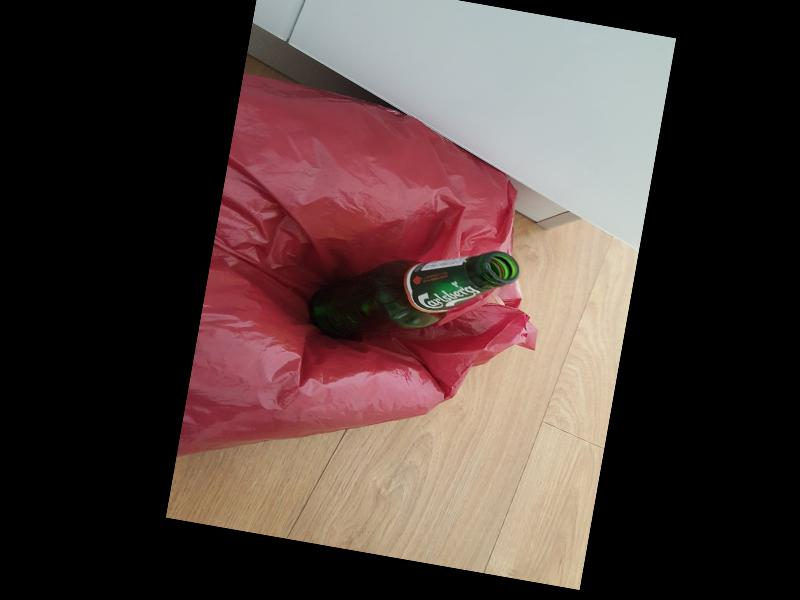Beer: (307, 222, 523, 369)
